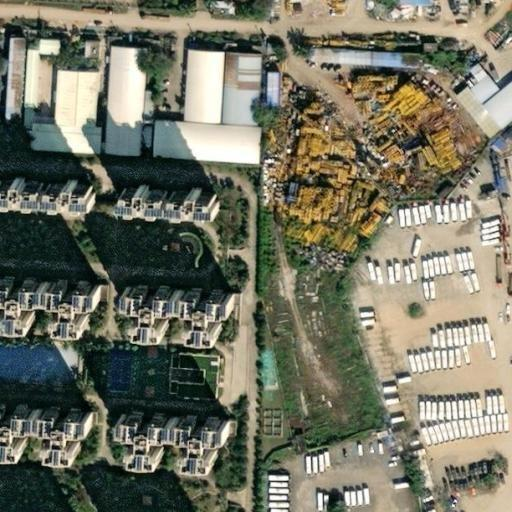building: (123, 282, 240, 336), (116, 414, 233, 467), (145, 118, 255, 163), (97, 48, 141, 155), (211, 53, 255, 126), (176, 49, 217, 123), (116, 180, 214, 206), (448, 88, 493, 140), (49, 71, 90, 128), (20, 124, 93, 154), (474, 75, 512, 129), (170, 353, 213, 400), (0, 37, 22, 124), (17, 51, 38, 105), (461, 73, 494, 105), (364, 51, 413, 66), (497, 152, 512, 193), (432, 70, 457, 94), (261, 71, 277, 106), (331, 49, 364, 64), (459, 67, 482, 87), (136, 90, 150, 118), (200, 2, 227, 16), (477, 248, 492, 268), (310, 48, 331, 62), (38, 38, 56, 54), (78, 41, 94, 58), (460, 60, 477, 76), (392, 0, 425, 8), (15, 104, 27, 124), (25, 116, 49, 125), (491, 247, 501, 268), (448, 41, 461, 57), (138, 127, 147, 146), (160, 381, 171, 392), (162, 240, 172, 252), (415, 43, 431, 50), (176, 43, 191, 50), (165, 353, 173, 366), (133, 494, 143, 504)
